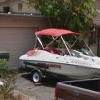Boat: (13, 28, 98, 80)
